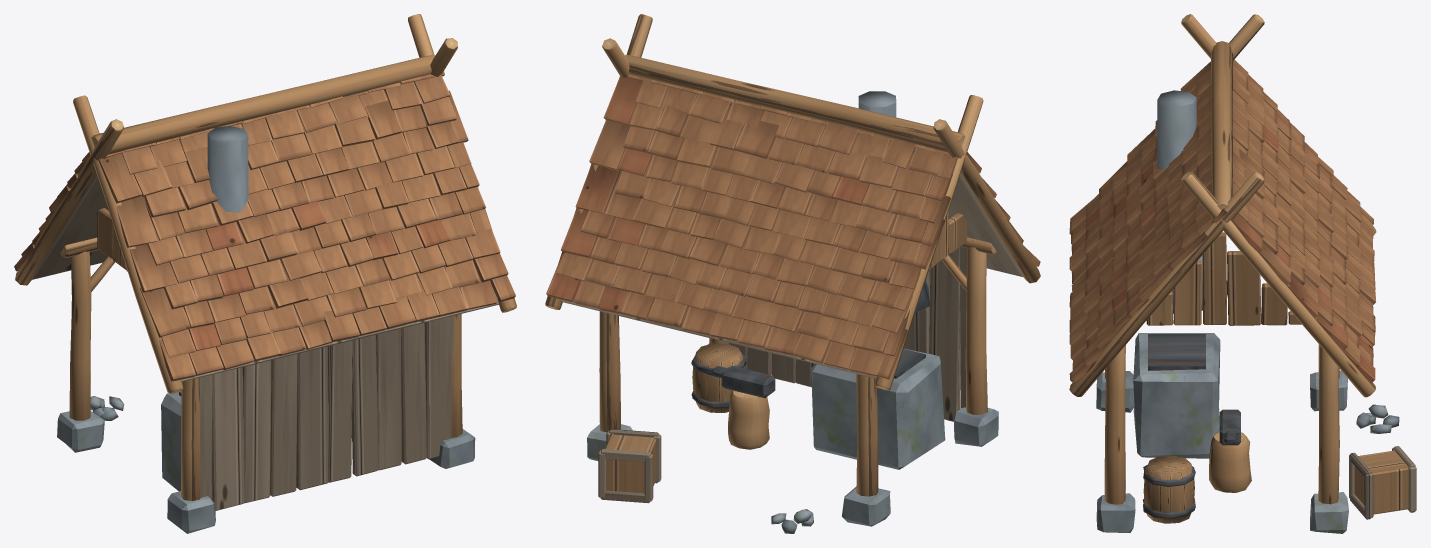
The model's file is bw_bronze_workshop.fbx.
3 views of the same model, side by side, from view 1: azimuth 30°, elevation 25°; view 2: azimuth 150°, elevation 25°; view 3: azimuth 270°, elevation 25° (orthographic). The views are drawn at different scales.
Visible parts, largest first — view 1: bw_bronze_workshop; view 2: bw_bronze_workshop; view 3: bw_bronze_workshop.
Boxes of the visible parts, x1,y1,x2,y2 form: bw_bronze_workshop: (14,14,516,533); bw_bronze_workshop: (545,14,1040,533); bw_bronze_workshop: (1069,14,1416,533).
Bounding box in the file's own units: 2.57 × 2.71 × 2.28.
